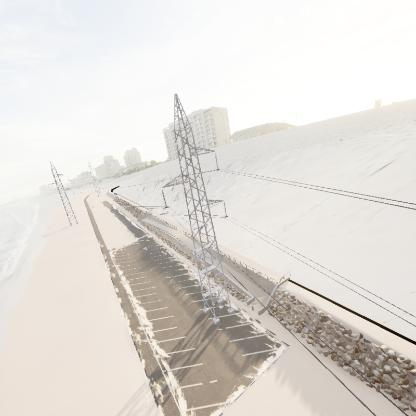tower: (158, 88, 237, 328), (41, 157, 85, 229)
